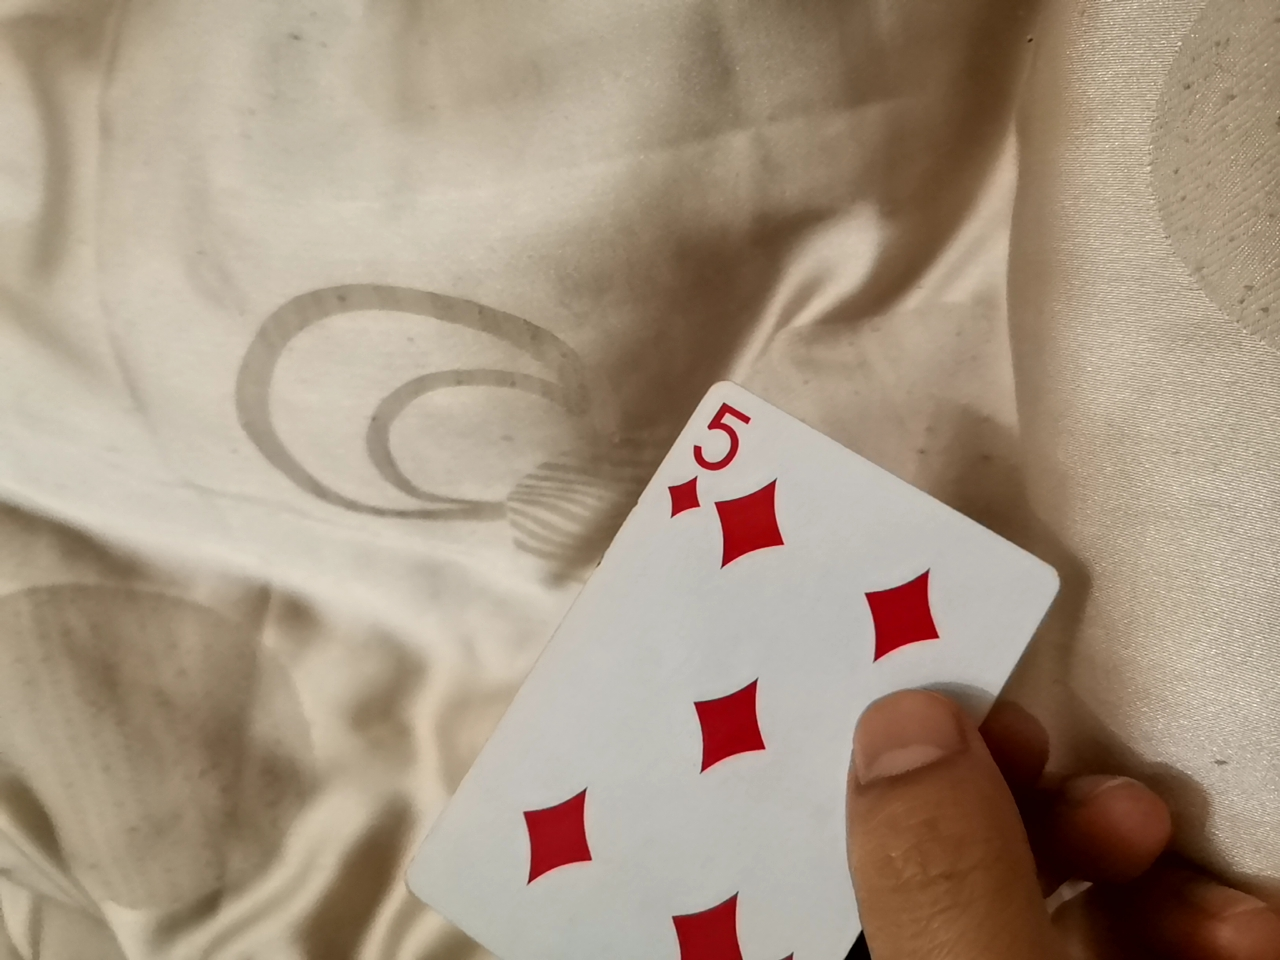fk 5: (413, 374, 1066, 958)
